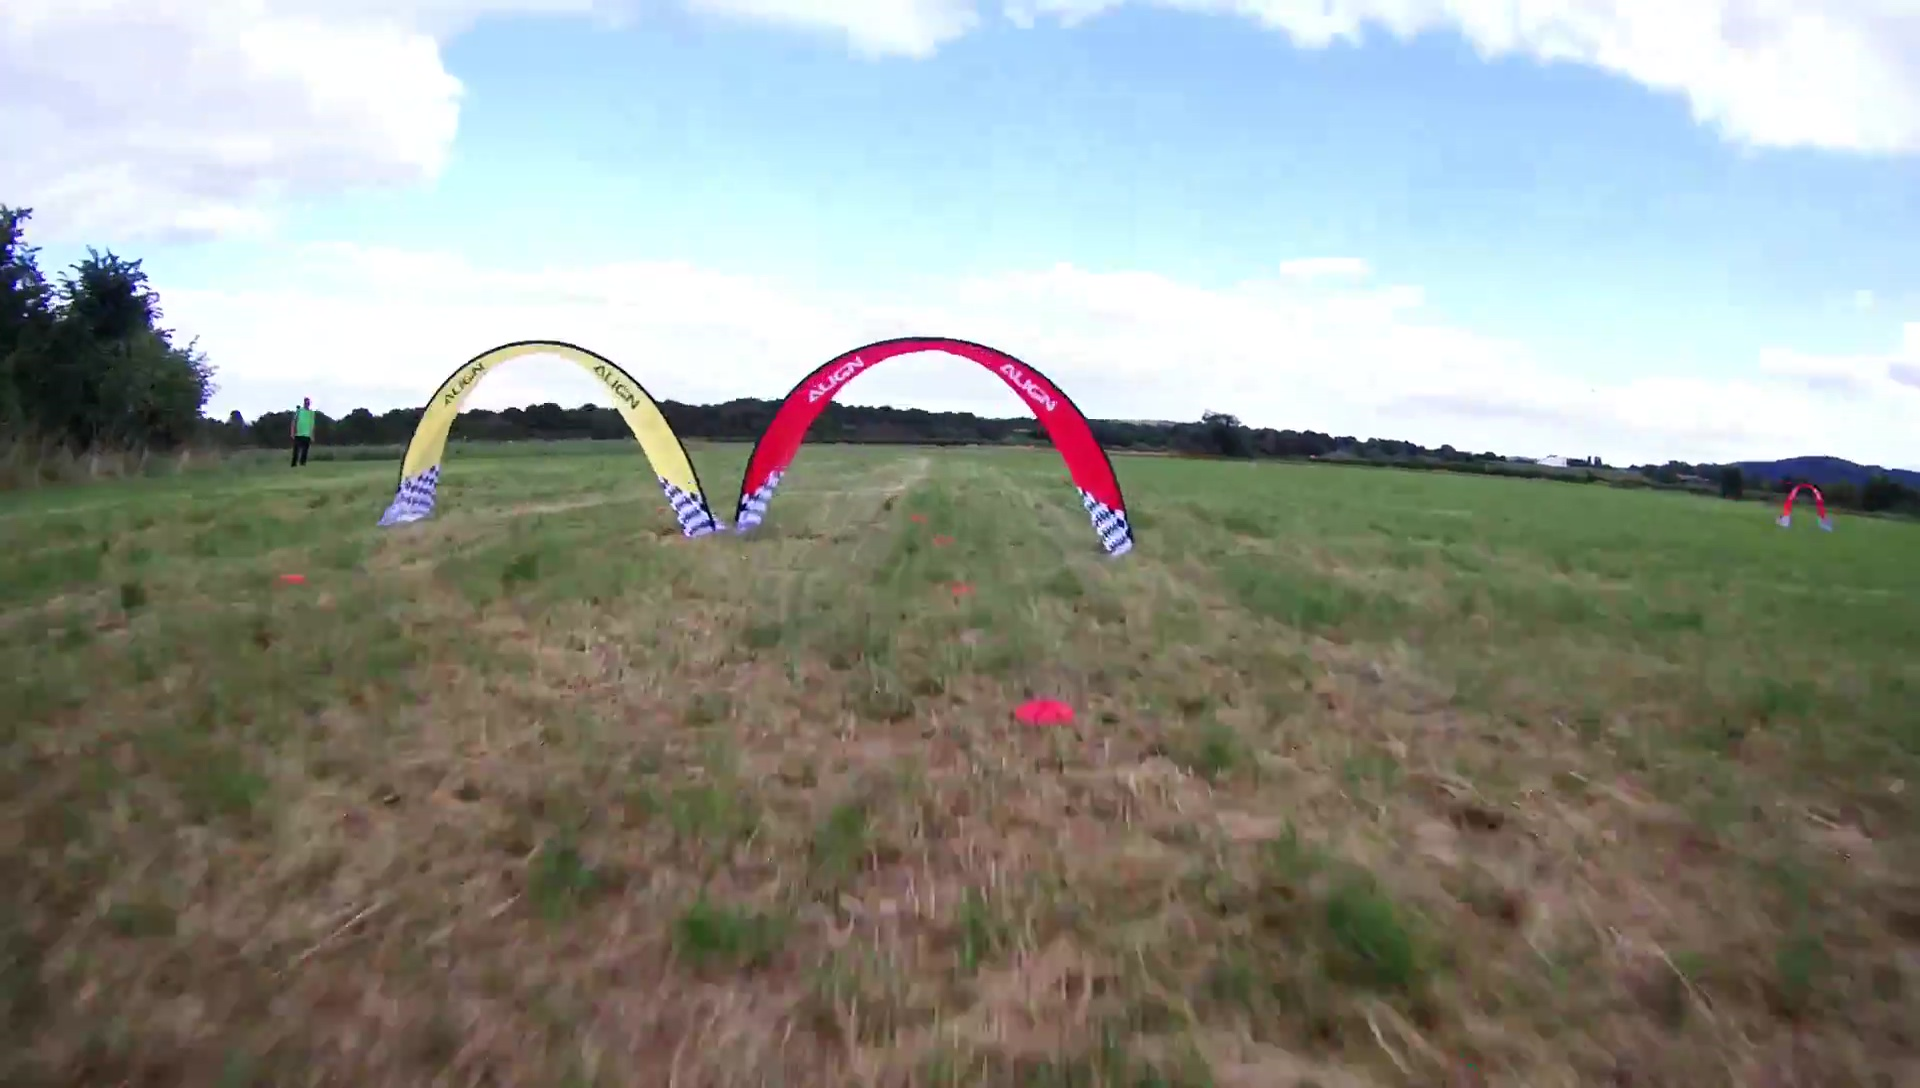gate: (727, 332, 1138, 562), (378, 336, 724, 545), (1774, 480, 1832, 531)
